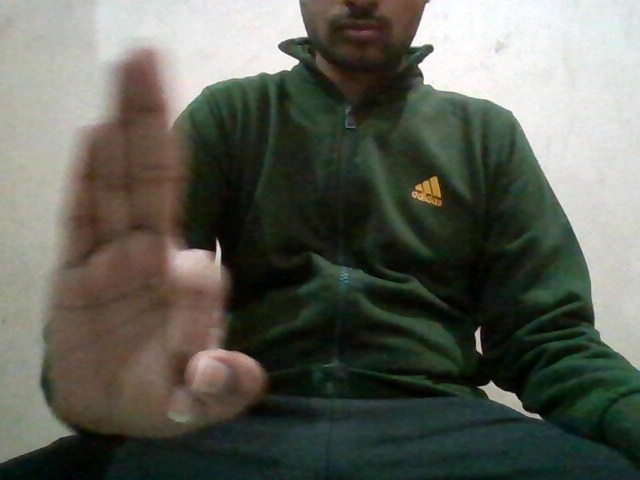F: (40, 36, 277, 440)
